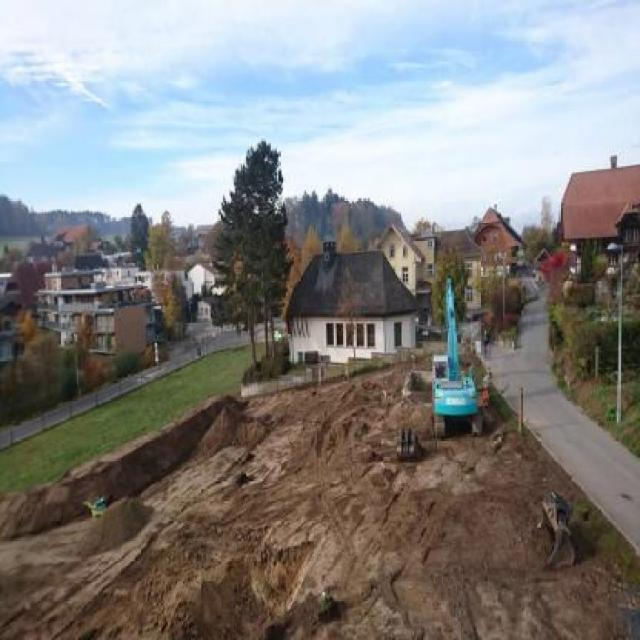Excavator: (429, 276, 483, 438)
